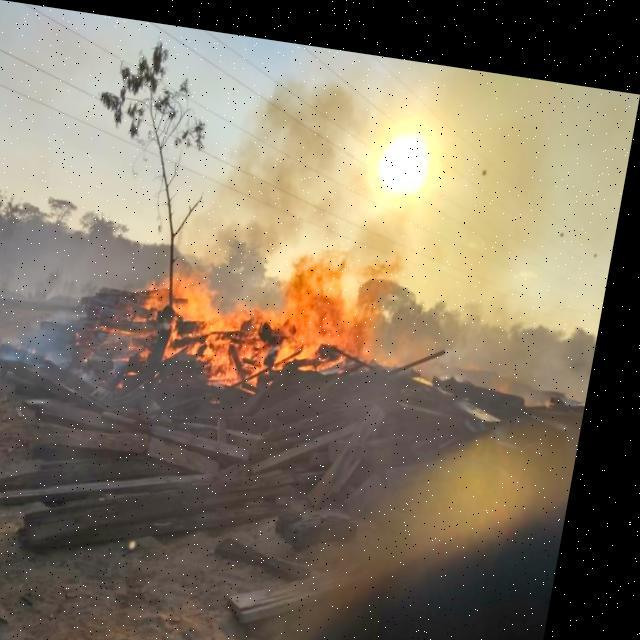Fire: (110, 216, 402, 385)
